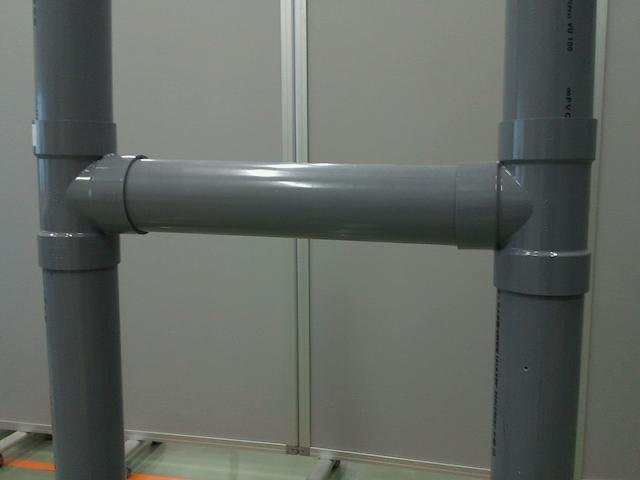junction: (444, 112, 601, 298), (25, 116, 147, 279)
